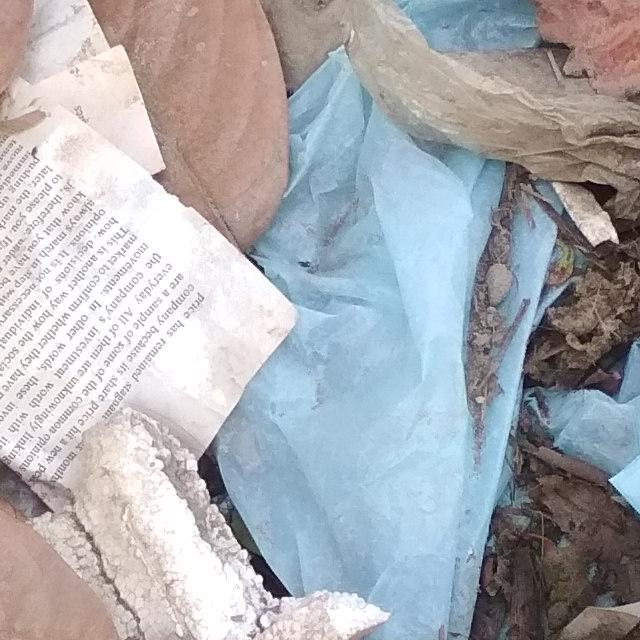paper: (0, 19, 307, 509)
